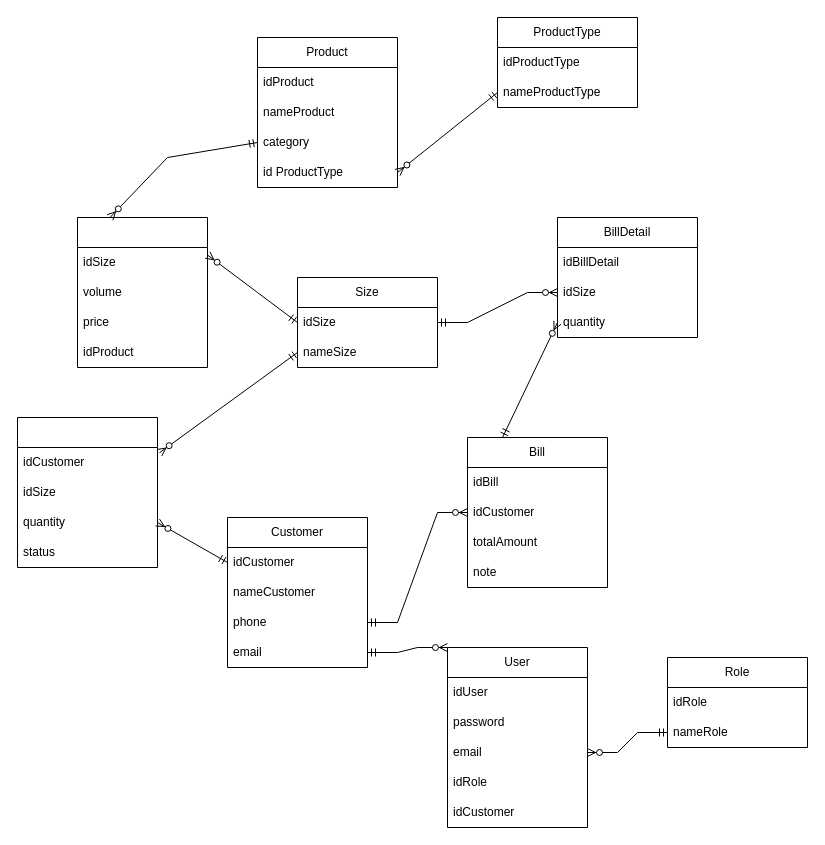
The diagram is 825 pixels wide and 845 high, and some of its shapes have lost their labels. Here are the shapes that lost their labels. From the top down, the box of each, then its label:
(76, 216, 208, 368): SizeDetail
(16, 416, 158, 568): CartDetail
